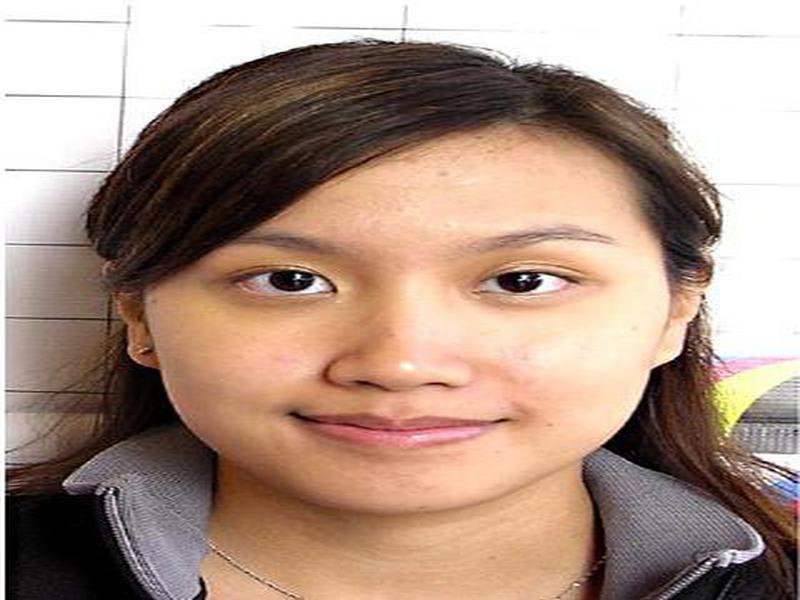without_mask: (151, 150, 657, 516)
